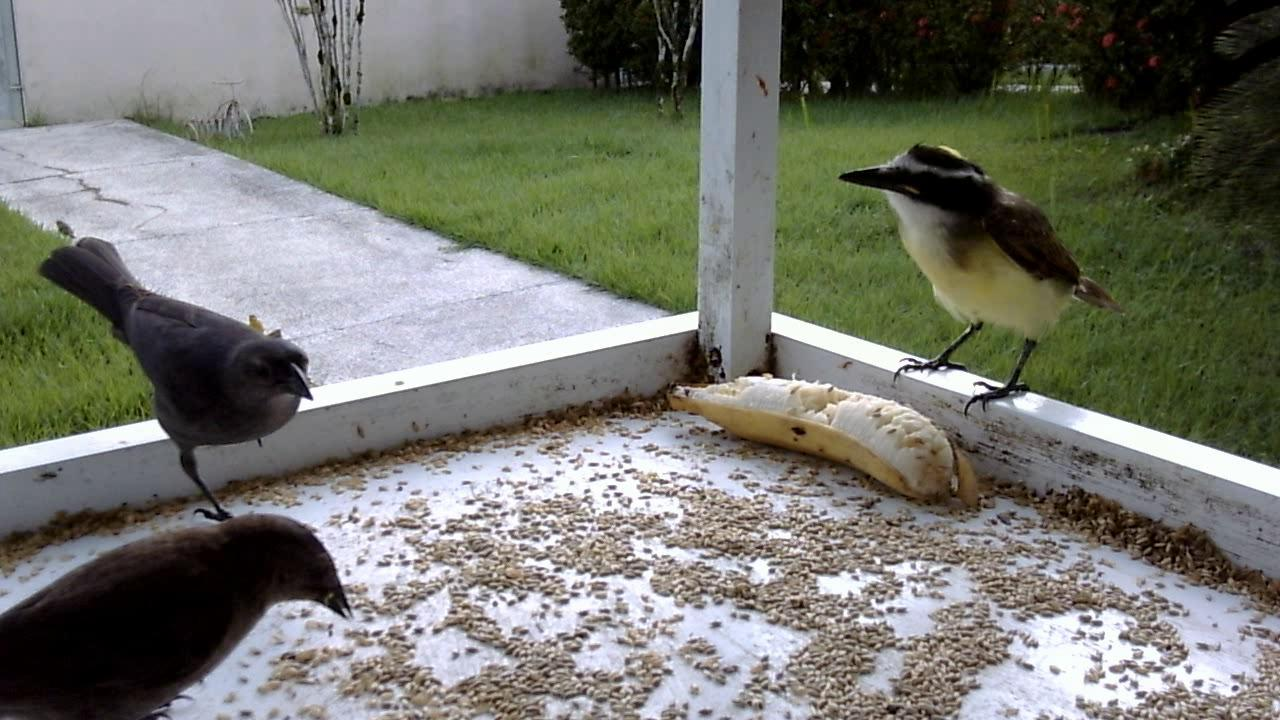bem_te_vi: (827, 135, 1128, 426)
chupim: (20, 211, 321, 543), (1, 497, 356, 720)
